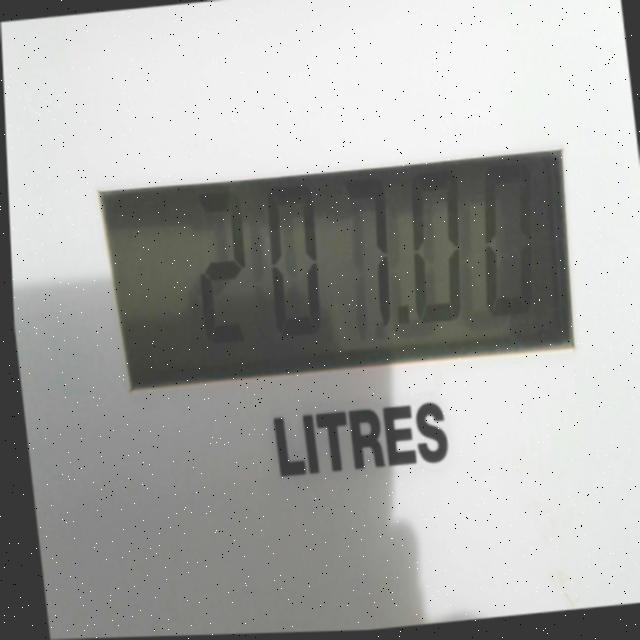.: (384, 284, 412, 342)
0: (467, 157, 559, 345), (394, 167, 485, 335), (254, 176, 332, 358)
2: (184, 182, 263, 350)
7: (324, 163, 409, 342)
